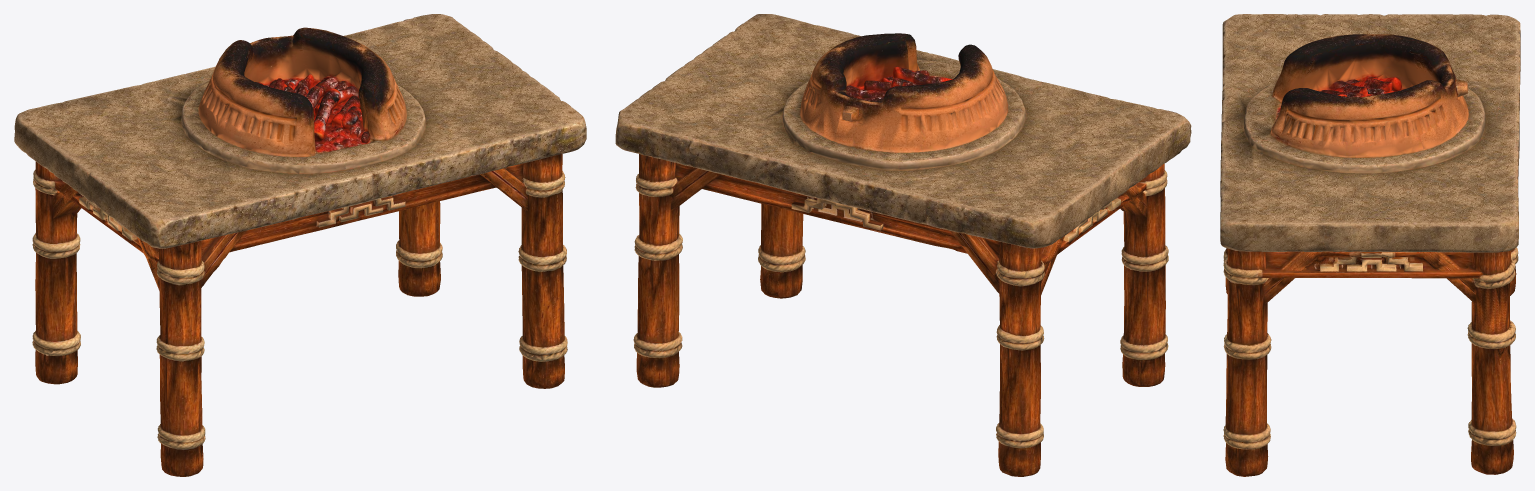
File: ember-altar.glb
The picture shows the model from 3 angles, left to right: view 1: azimuth 30°, elevation 25°; view 2: azimuth 150°, elevation 25°; view 3: azimuth 270°, elevation 25°; orthographic projection.
Size of the model in its own units: 1.9 by 1.34 by 1.14.
1 material, 1 textured.
